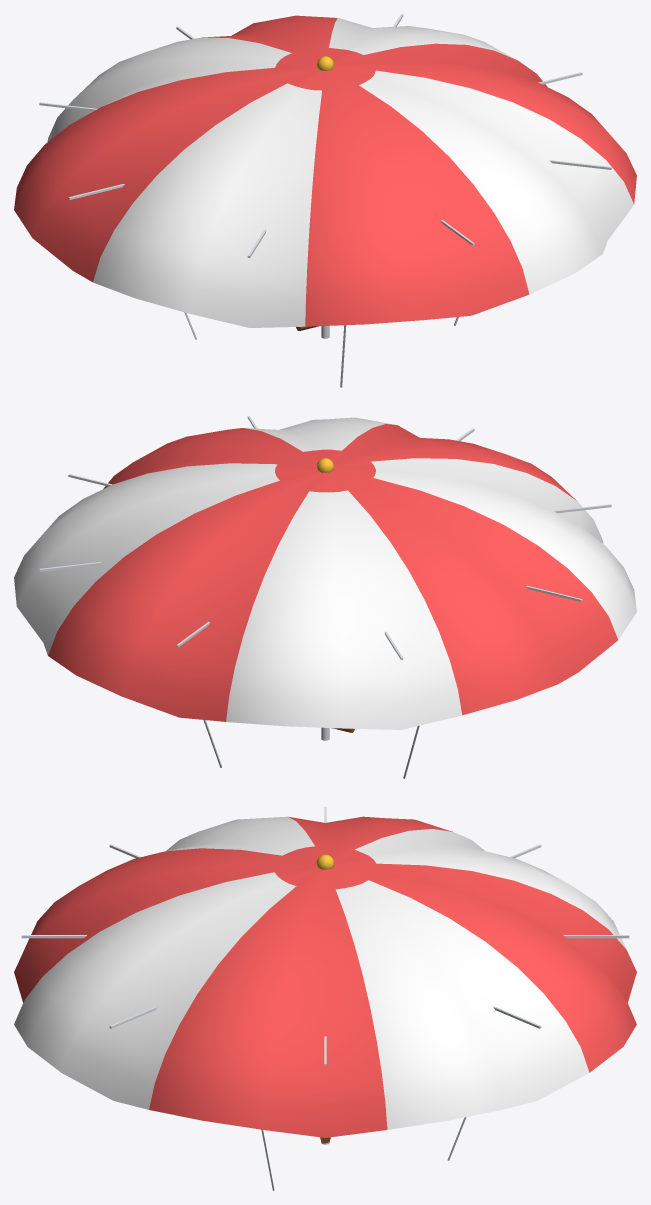
The model's file is glider.glb.
The picture shows the model from 3 angles, top to bottom: view 1: azimuth 30°, elevation 25°; view 2: azimuth 150°, elevation 25°; view 3: azimuth 270°, elevation 25°; orthographic projection. The views are drawn at different scales.
Visible parts, largest first — view 1: glider_canopy_mesh, glider_frame_e9edf3; view 2: glider_canopy_mesh, glider_frame_e9edf3; view 3: glider_canopy_mesh, glider_frame_e9edf3.
Part boxes in pixels (<box>): glider_canopy_mesh: <box>14,15,636,327</box>; glider_frame_e9edf3: <box>39,14,611,257</box>; glider_canopy_mesh: <box>14,417,636,729</box>; glider_frame_e9edf3: <box>39,416,611,659</box>; glider_canopy_mesh: <box>14,816,636,1137</box>; glider_frame_e9edf3: <box>21,807,629,1065</box>.
Size of the model in its own units: 4.79 by 2.44 by 4.79.
